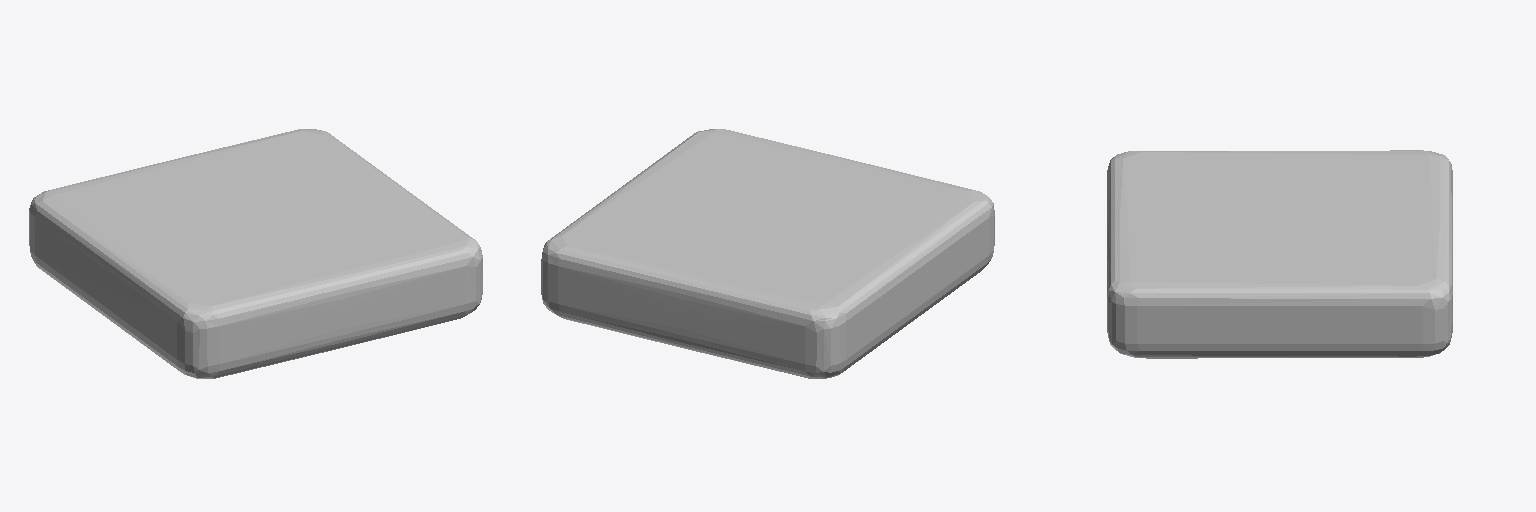
Rendered from tile.obj.
3 renders of one model, left to right at view 1: azimuth 30°, elevation 25°; view 2: azimuth 150°, elevation 25°; view 3: azimuth 270°, elevation 25°, orthographic.
Parts seen in each view (by area): view 1: Tile; view 2: Tile; view 3: Tile.
Boxes of the visible parts, <box> form: Tile: <box>29,129,482,378</box>; Tile: <box>541,129,994,378</box>; Tile: <box>1107,150,1452,358</box>.
Size of the model in its own units: 0.1398 by 0.0333 by 0.14.